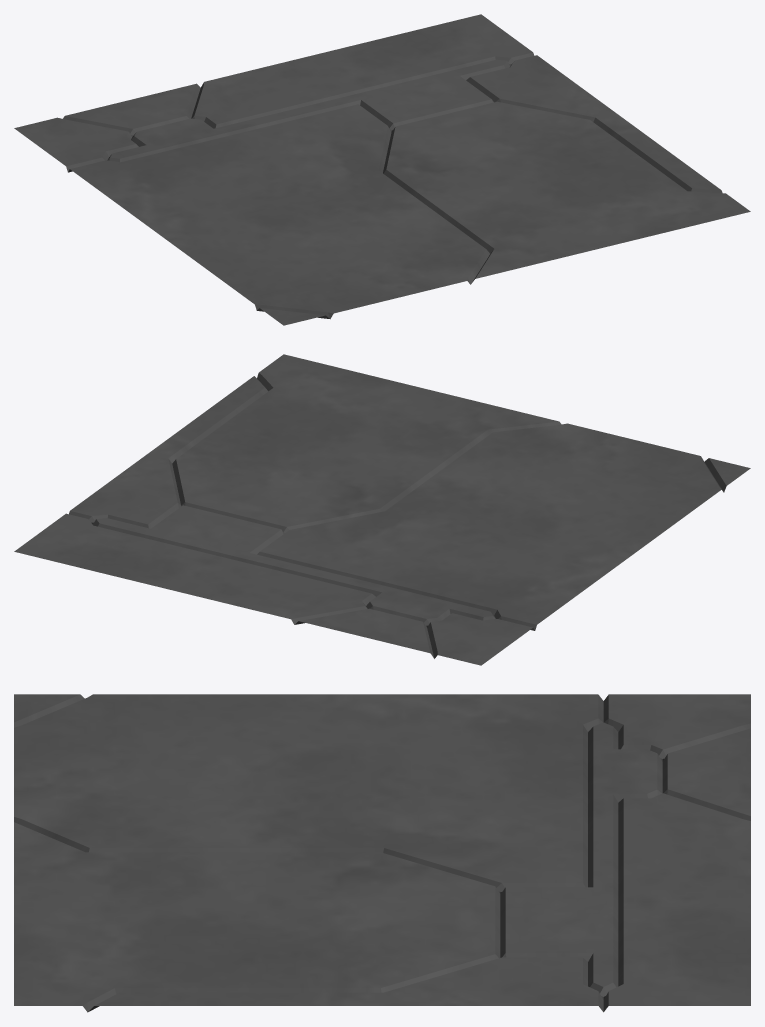
The model's file is WallTile_01.fbx.
3 renders of one model, top to bottom at view 1: azimuth 30°, elevation 25°; view 2: azimuth 150°, elevation 25°; view 3: azimuth 270°, elevation 25°, orthographic. The views are drawn at different scales.
Parts seen in each view (by area): view 1: Corridor_WallTile_01; view 2: Corridor_WallTile_01; view 3: Corridor_WallTile_01.
Part boxes in pixels (x1,y1,x2,y2): Corridor_WallTile_01: (14,14,750,325); Corridor_WallTile_01: (14,354,750,665); Corridor_WallTile_01: (14,694,750,1012).
Size of the model in its own units: 100 by 1 by 100.
Materials: 1 (1 with a texture image).
